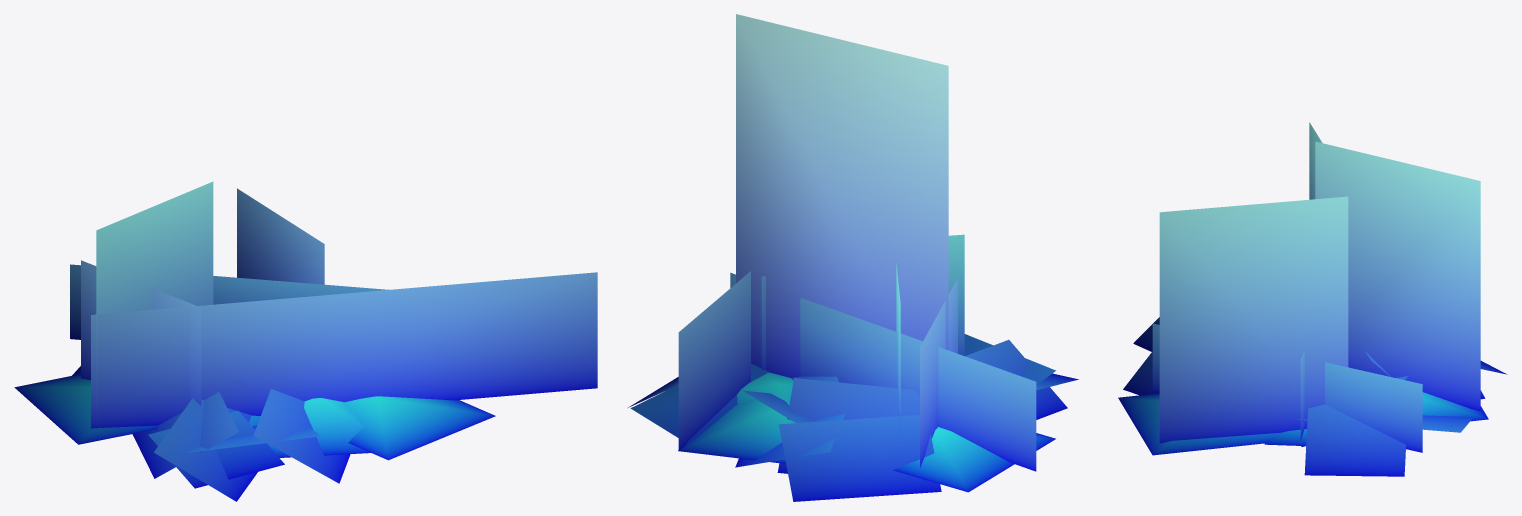
The model's file is SM_Env_Ground_Cover_03.glb.
3 renders of one model, left to right at view 1: azimuth 30°, elevation 25°; view 2: azimuth 150°, elevation 25°; view 3: azimuth 270°, elevation 25°, orthographic. The views are drawn at different scales.
Visible parts, largest first — view 1: SM_Env_Ground_Cover_03_LOD0; view 2: SM_Env_Ground_Cover_03_LOD0; view 3: SM_Env_Ground_Cover_03_LOD0.
Boxes of the visible parts, box(x1,y1,x2,y2) form: SM_Env_Ground_Cover_03_LOD0: box(14, 181, 597, 501); SM_Env_Ground_Cover_03_LOD0: box(628, 14, 1078, 501); SM_Env_Ground_Cover_03_LOD0: box(1118, 122, 1507, 476).
Size of what is drawn, in the model's own units: 2.08 by 1.6 by 1.61.
